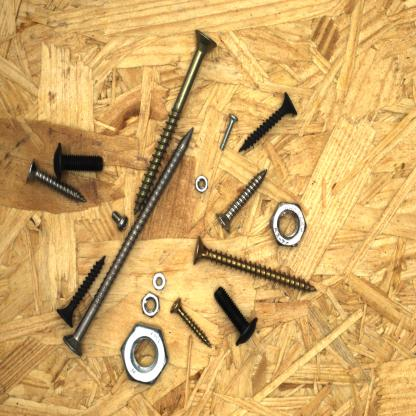screw: (61, 123, 197, 360), (130, 25, 219, 219), (190, 232, 320, 296), (53, 249, 110, 331), (235, 88, 300, 156), (212, 166, 270, 238), (22, 155, 91, 206), (210, 283, 261, 348), (48, 138, 110, 182), (170, 295, 214, 350), (218, 110, 241, 152), (108, 205, 130, 234)
